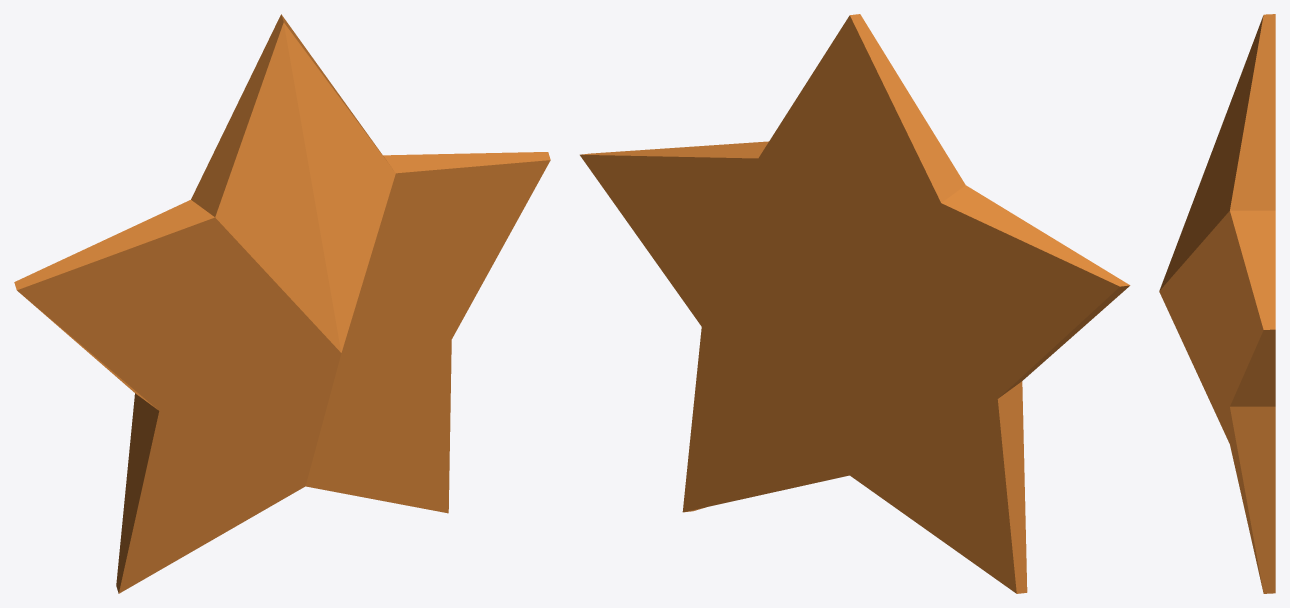
Rendered from star.fbx.
3 views of the same model, side by side, from view 1: azimuth 30°, elevation 25°; view 2: azimuth 150°, elevation 25°; view 3: azimuth 270°, elevation 25° (orthographic). The views are drawn at different scales.
Visible parts, largest first — view 1: star; view 2: star; view 3: star.
Boxes of the visible parts, x1=… form: star: x1=14, y1=14, x2=550, y2=593; star: x1=580, y1=14, x2=1130, y2=593; star: x1=1159, y1=14, x2=1275, y2=593.
Size of the model in its own units: 192 by 182 by 38.01.
